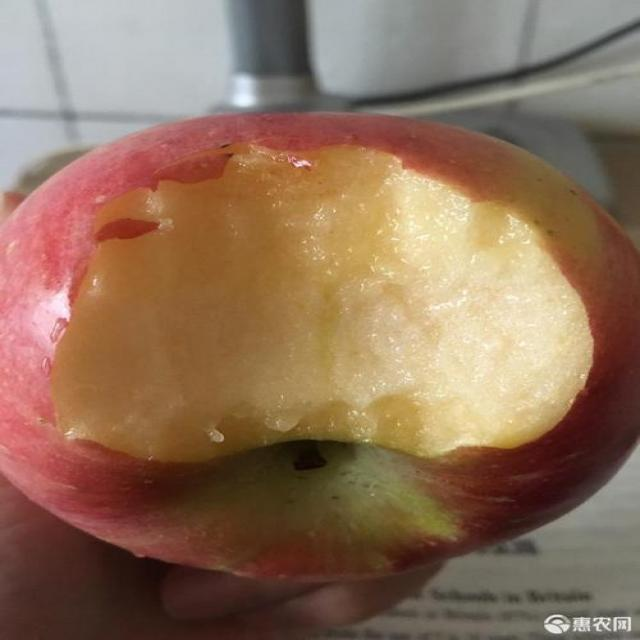Apple: (0, 98, 640, 587)
